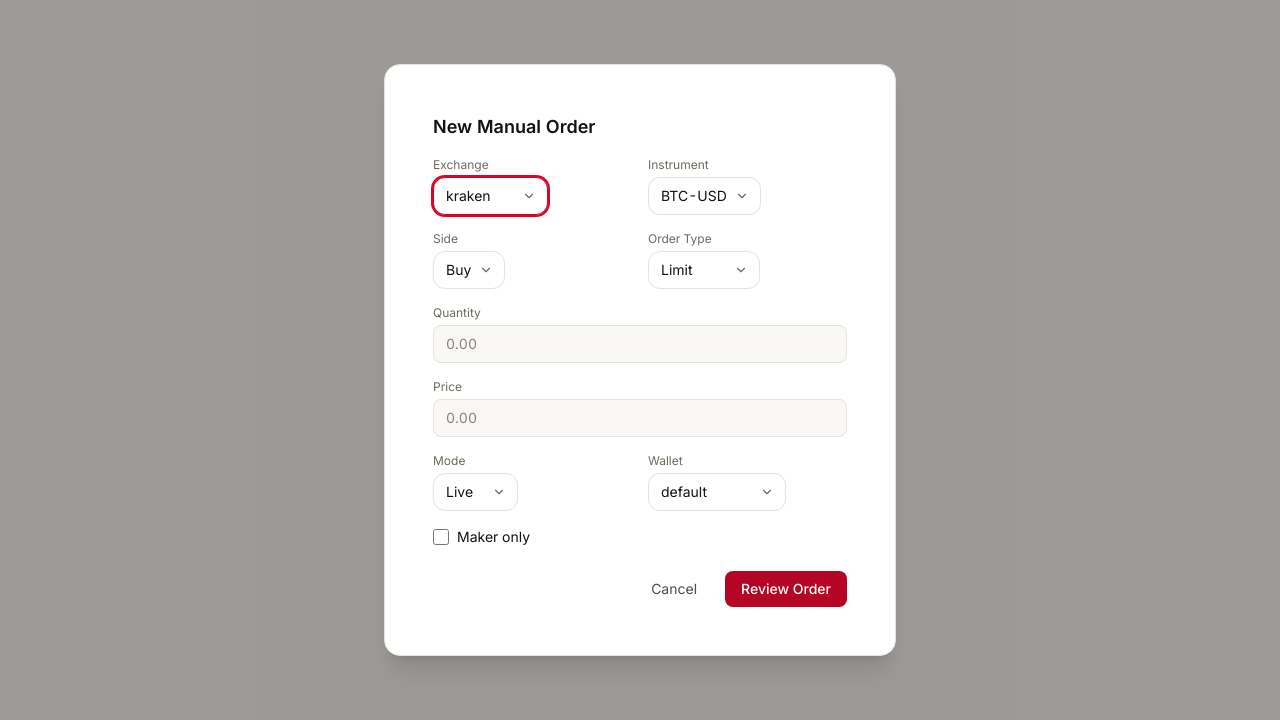
Test: NewOrderModal › shows validation error when required fields empty
Click the button "Review Order" at point(786, 589), box x1=725 y1=571 x2=847 y2=607
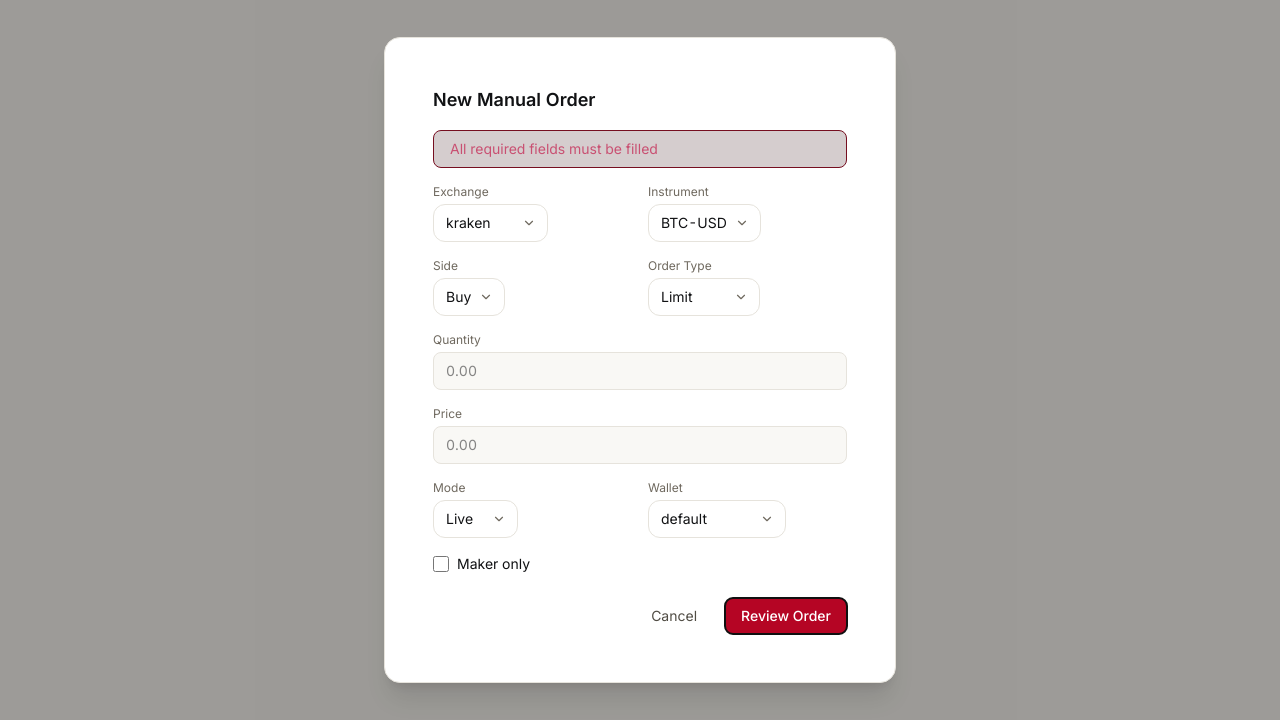
Expected: the text "All required fields must be filled" is shown, x1=433 y1=130 x2=847 y2=168
